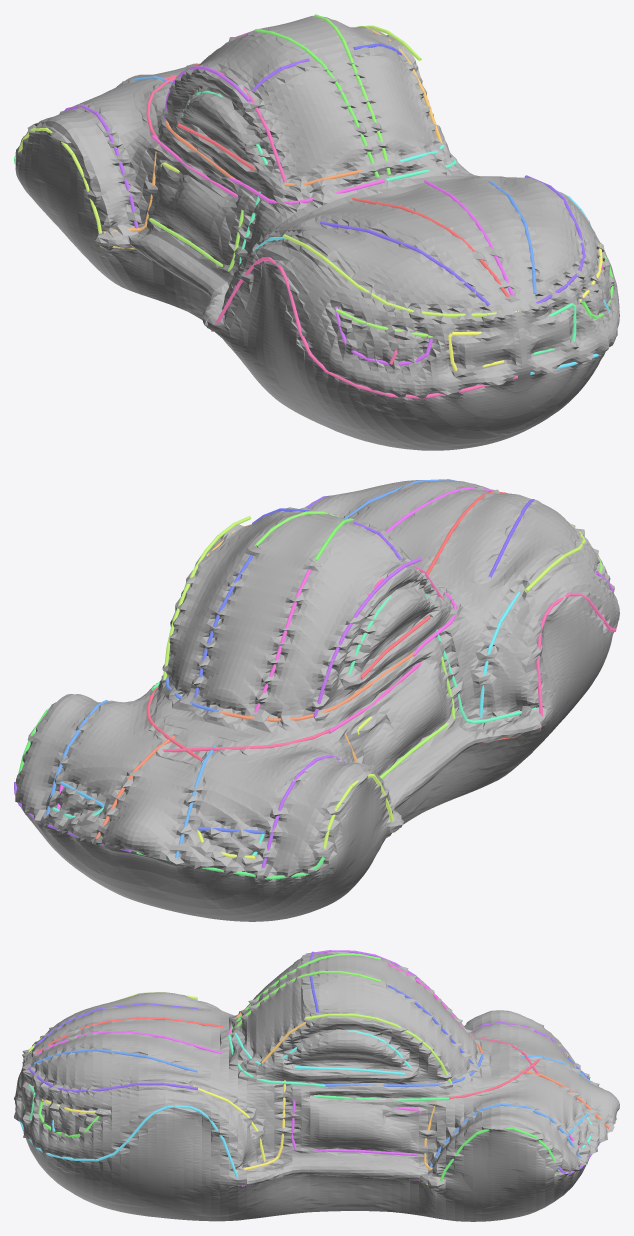
Rendered from author1_car.gltf.
3 renders of one model, top to bottom at view 1: azimuth 30°, elevation 25°; view 2: azimuth 150°, elevation 25°; view 3: azimuth 270°, elevation 25°, orthographic. The views are drawn at different scales.
Bounding box in the file's own units: 0.4326 × 0.3454 × 0.8789.
